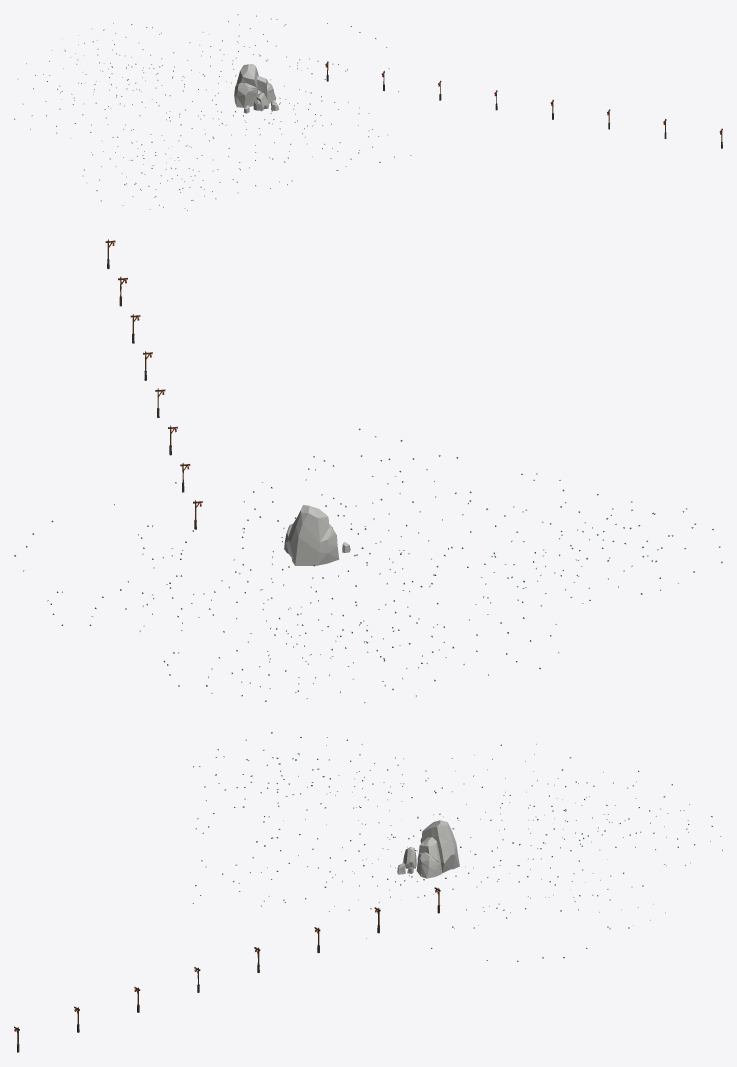
The model's file is chunk_0_2_lod1.glb.
The picture shows the model from 3 angles, top to bottom: view 1: azimuth 30°, elevation 25°; view 2: azimuth 150°, elevation 25°; view 3: azimuth 270°, elevation 25°; orthographic projection. The views are drawn at different scales.
Parts seen in each view (by area): view 1: Batched_Chunk_0_2.001; view 2: Batched_Chunk_0_2.001; view 3: Batched_Chunk_0_2.001.
Boxes of the visible parts, left/top/right/bottom form: Batched_Chunk_0_2.001: left=14, top=14, right=722, bottom=210; Batched_Chunk_0_2.001: left=14, top=239, right=722, bottom=703; Batched_Chunk_0_2.001: left=14, top=732, right=722, bottom=1052.
Bounding box in the file's own units: 110 × 7.36 × 103.
